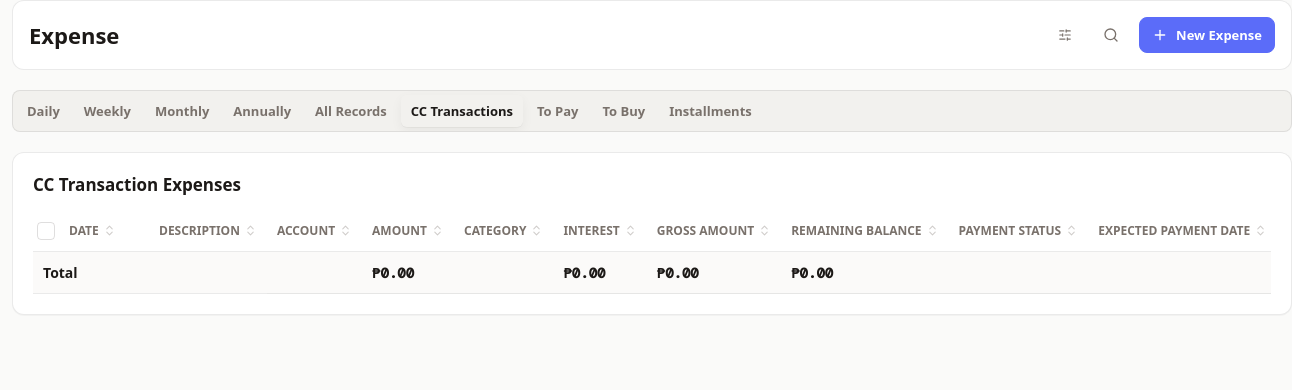
Scenario: CC Transaction Daily passes matching purchase-date bounds
This screenshot has width=1292, height=390.
What coordinates should you click on to do the following:
click the button named "Filters"
I would click on:
 (1065, 35)
Its box is 1047,19 -> 1083,51.
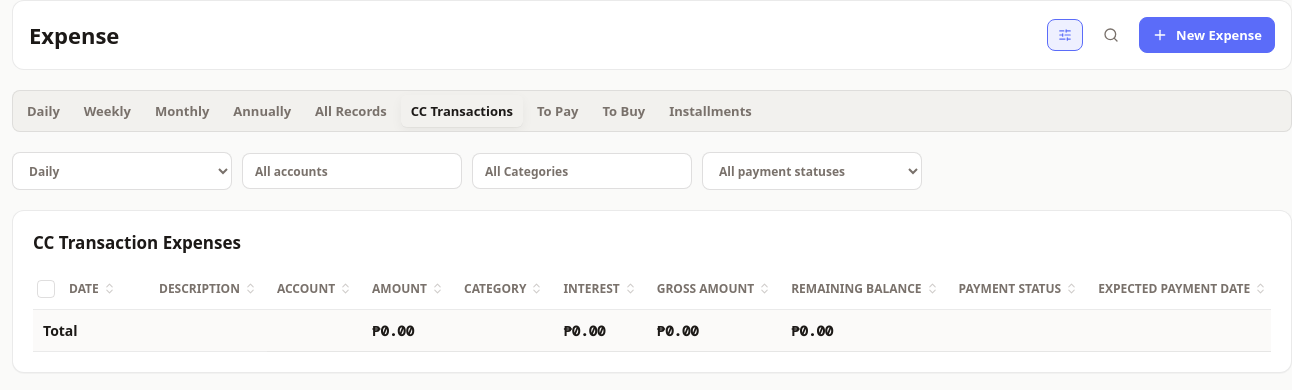
Expected: the dropdown named "CC Transaction period" shows "Daily", 12,152 -> 232,190
